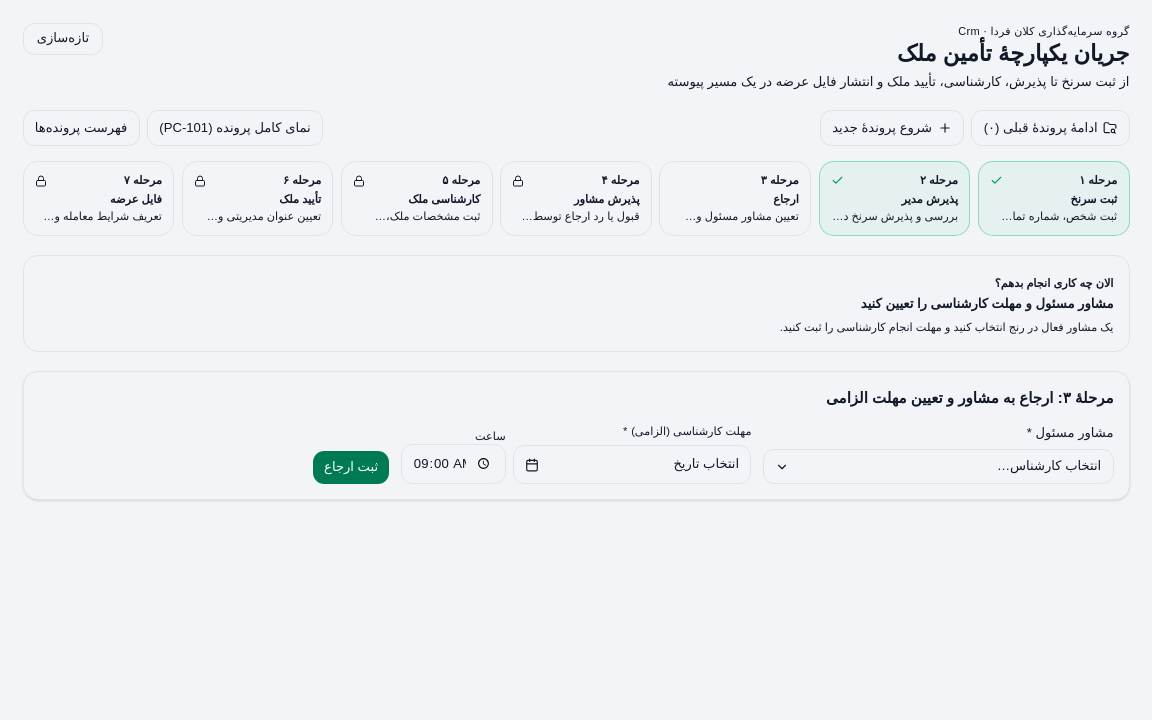
Test: property registration assignment step › uses the project's Jalali calendar for the appraisal deadline
Expected: the button "انتخاب کارشناس…" is shown, [763,449,1114,484]
Click the button "انتخاب تاریخ": click(632, 465) [513,445,751,484]
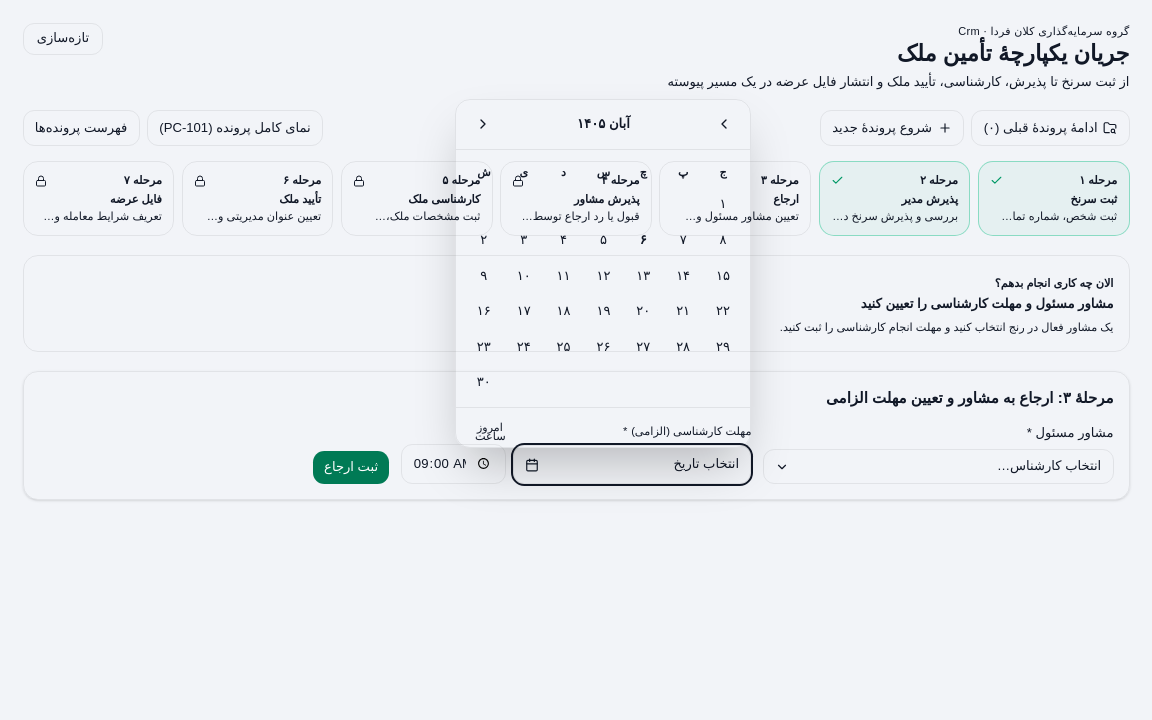
Now the dialog named "تقویم شمسی" is shown, box [455,99,751,448]
Now the button "امروز" is shown, box [468,415,512,439]
